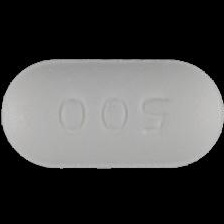62037-571: (0, 0, 224, 224)
